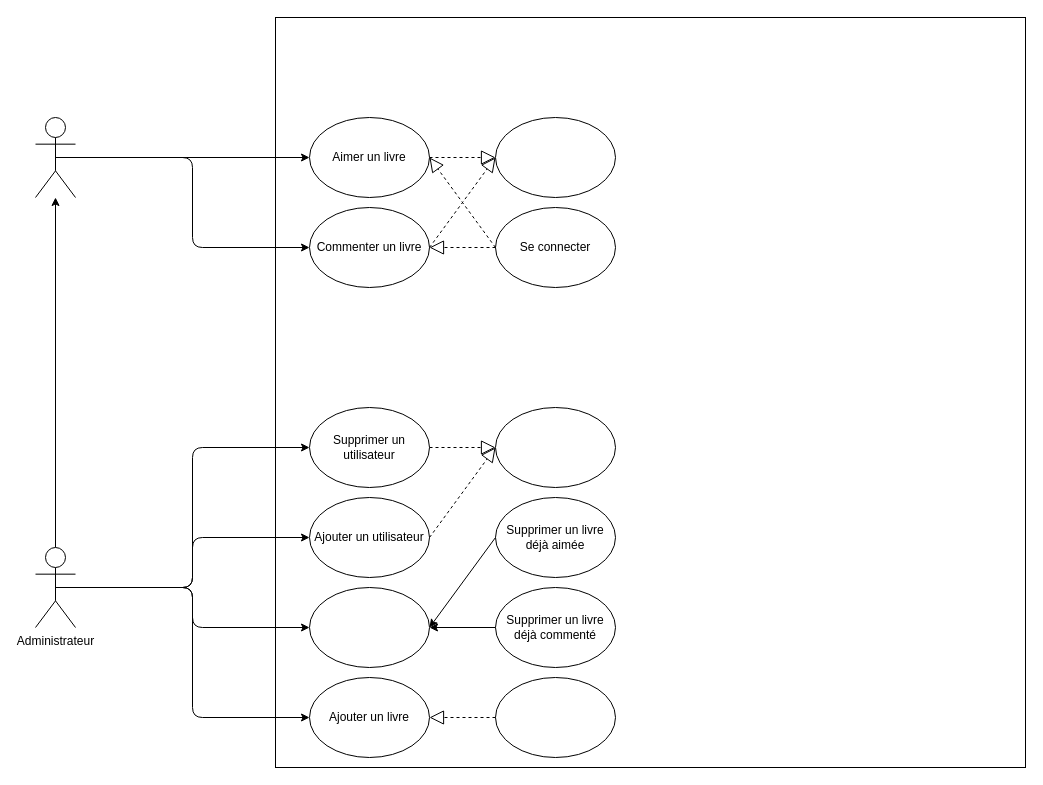
This 1043x785 diagram has some shape labels left out. The centre of each missing label's shape, as x and y in pixels:
"Ajouter un nouvel auteur" goes at point (555, 717).
"Supprimer un livre" goes at point (369, 627).
"Utilisateur" goes at point (55, 157).
"Visualiser la liste des livres" goes at point (555, 157).
"Visualiser la liste des utilisateurs" goes at point (555, 447).
